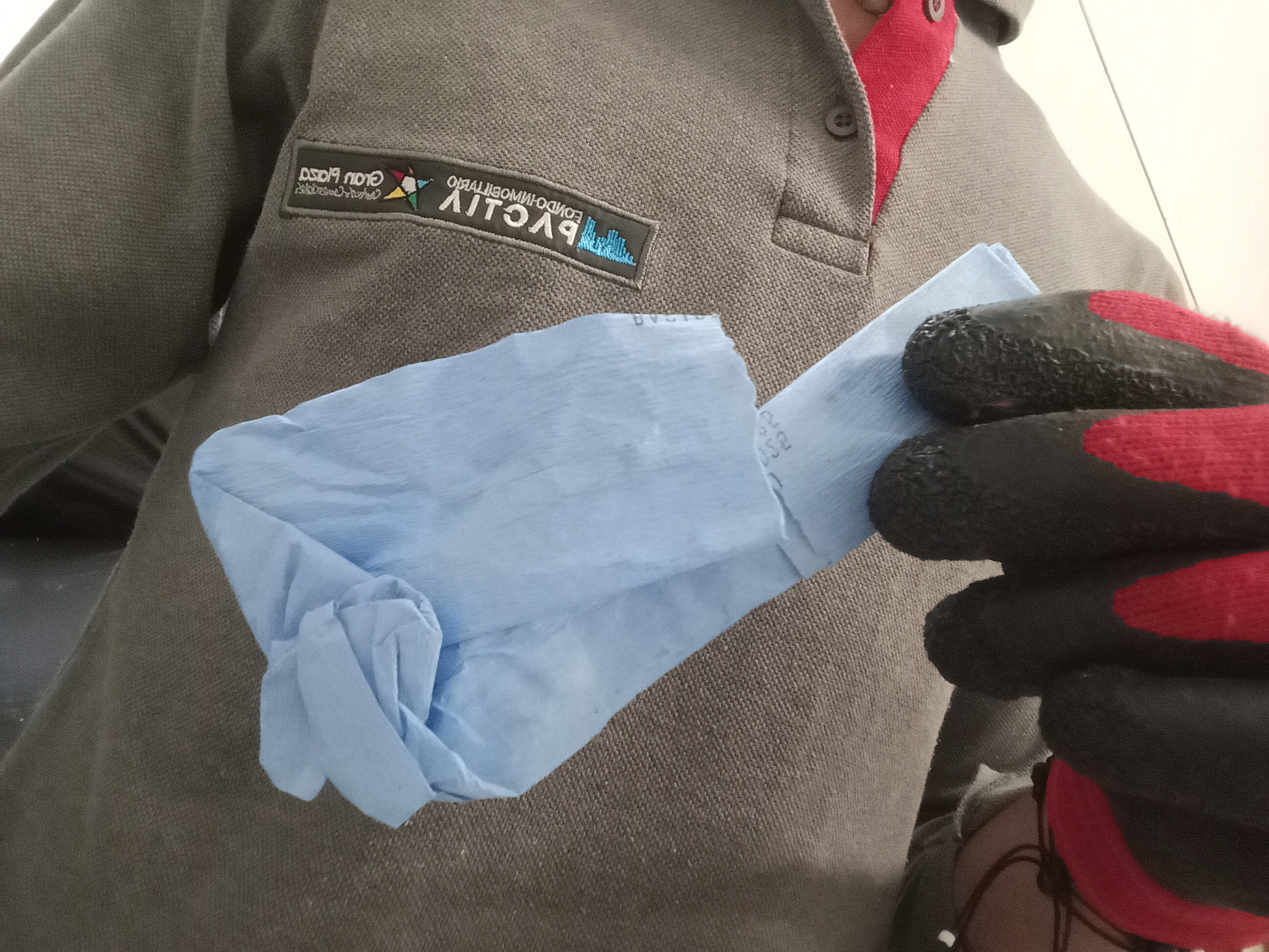Papel: (190, 242, 1045, 833)
